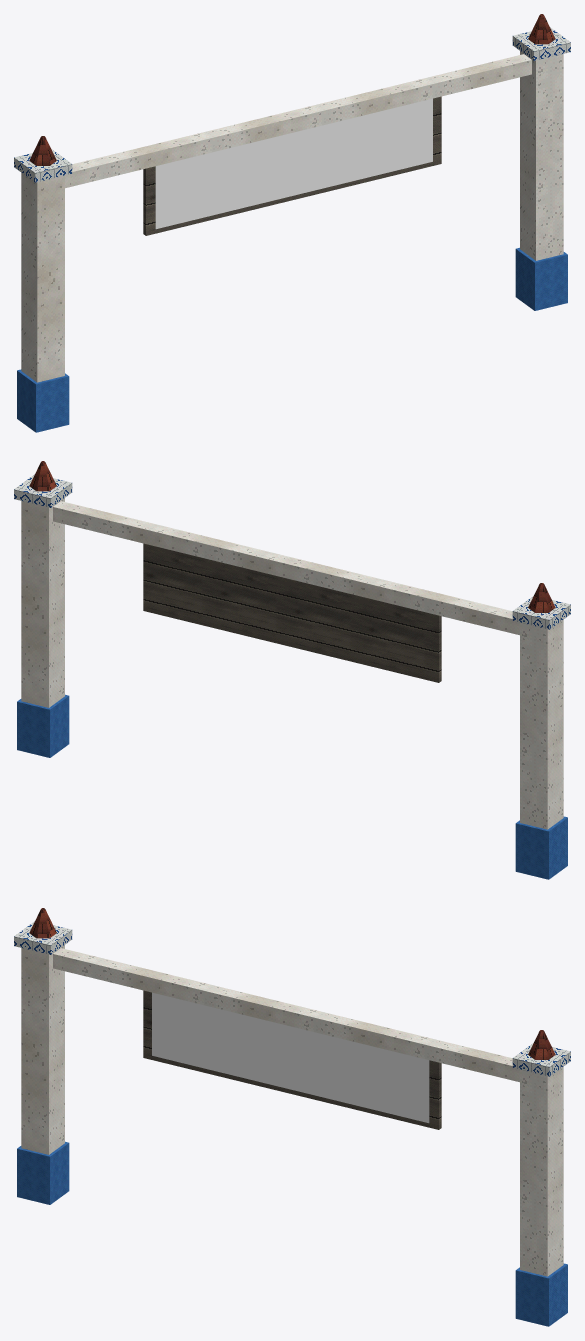
File: portico.obj
3 renders of one model, top to bottom at view 1: azimuth 30°, elevation 25°; view 2: azimuth 150°, elevation 25°; view 3: azimuth 330°, elevation 25°, orthographic.
Parts seen in each view (by area): view 1: portico; view 2: portico; view 3: portico.
Boxes of the visible parts, x1=… form: portico: x1=14, y1=14, x2=570, y2=432; portico: x1=14, y1=461, x2=570, y2=879; portico: x1=14, y1=908, x2=570, y2=1326.
Size of the model in its own units: 11.6 by 5.9 by 0.8.
6 materials, 5 textured.
